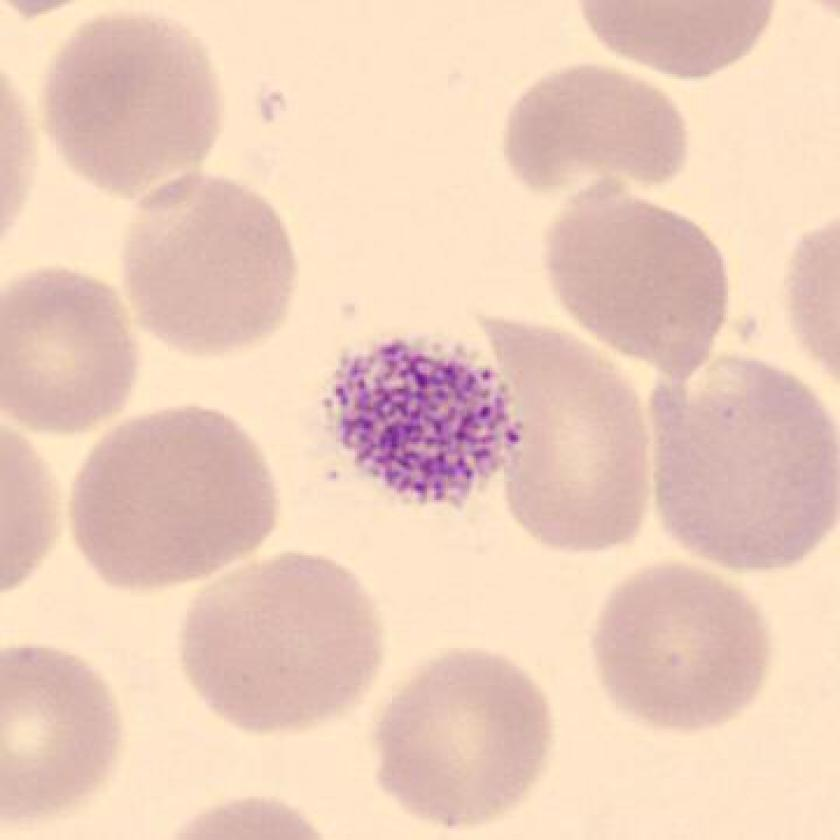platelets: (316, 335, 531, 520)
